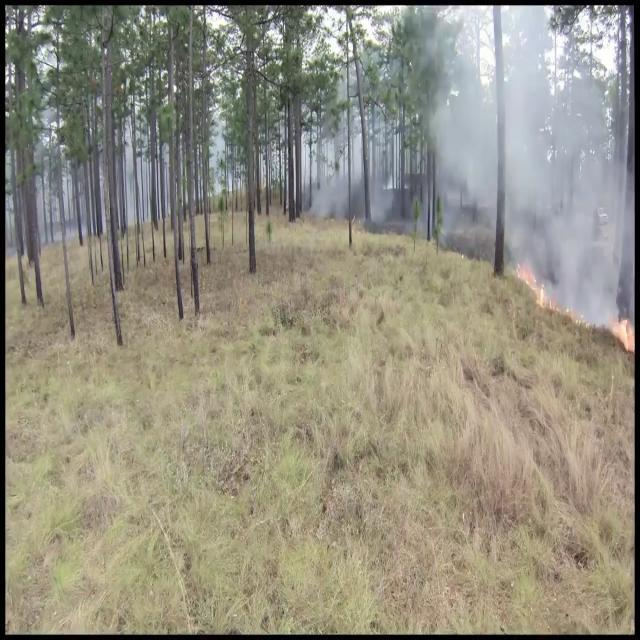Fire: (609, 308, 635, 361)
Smoke: (426, 6, 634, 312)
